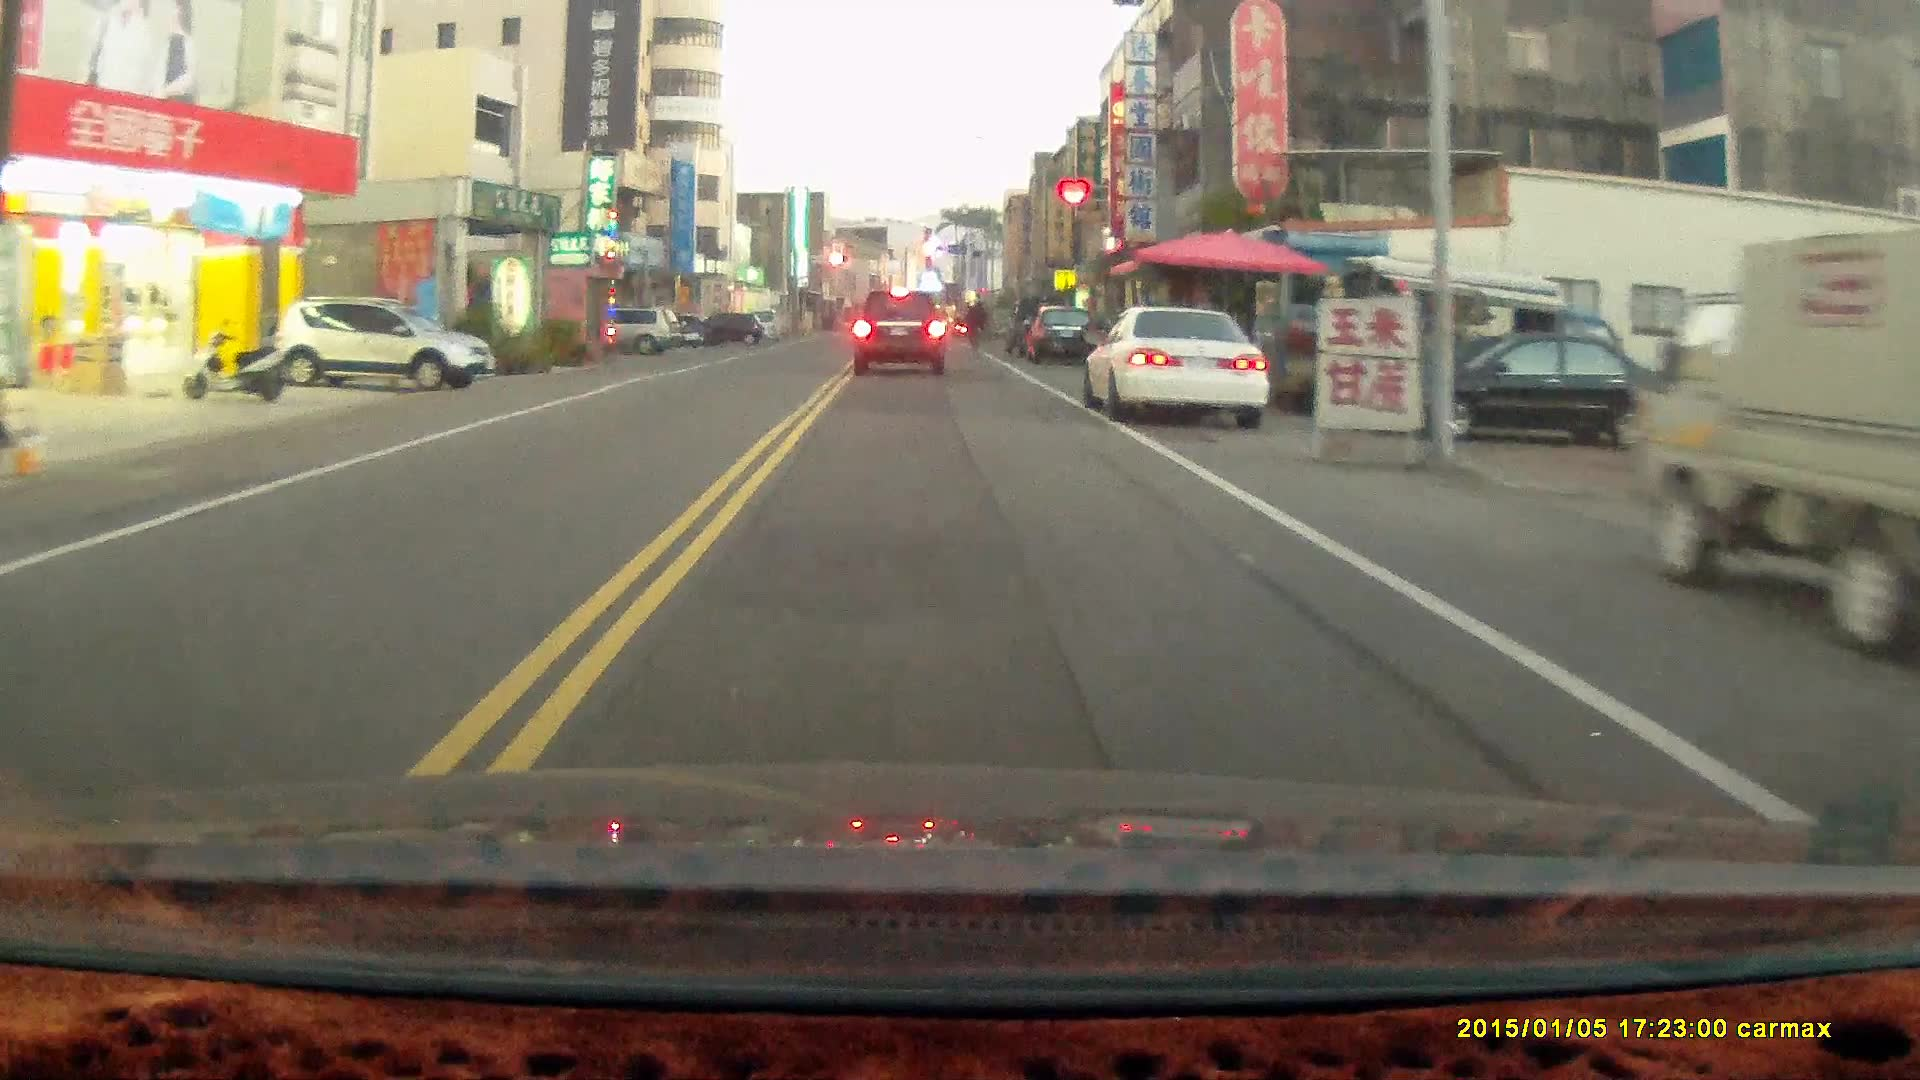rider: (967, 296, 988, 347)
vehicle: (1640, 225, 1920, 670), (1368, 327, 1692, 452), (1090, 302, 1273, 429), (267, 295, 493, 393), (851, 286, 951, 376), (590, 305, 686, 354), (1027, 304, 1102, 361)
